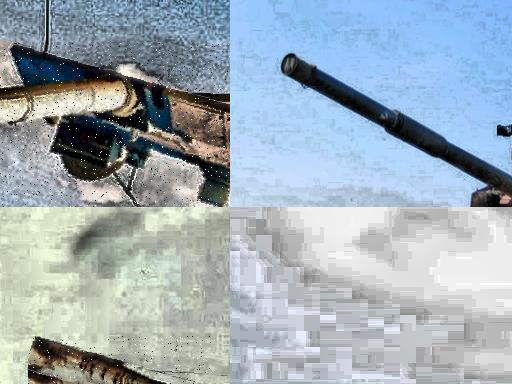tanks: (1, 44, 231, 208), (283, 56, 512, 208), (29, 337, 168, 384), (498, 126, 511, 138)
